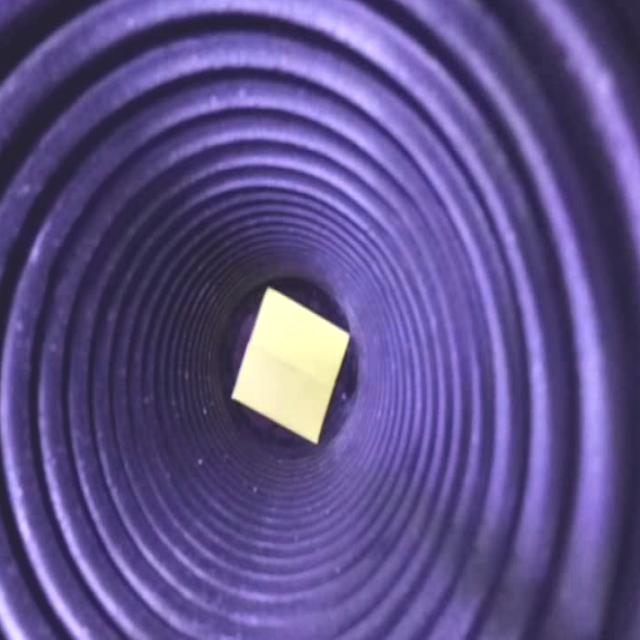obstacles: (229, 279, 353, 460)
